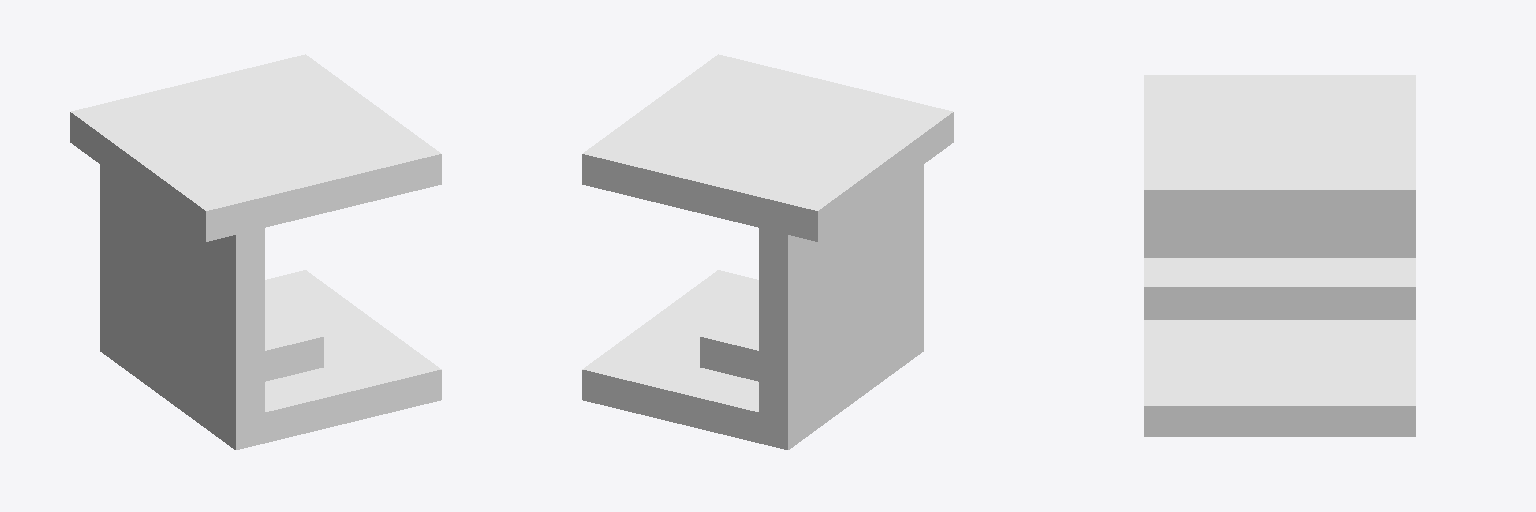
File: halte.obj
3 renders of one model, left to right at view 1: azimuth 30°, elevation 25°; view 2: azimuth 150°, elevation 25°; view 3: azimuth 270°, elevation 25°, orthographic.
Parts seen in each view (by area): view 1: object 1; view 2: object 1; view 3: object 1.
Part boxes in pixels (x1,y1,x2,y2): object 1: (70, 54, 441, 449); object 1: (582, 54, 953, 449); object 1: (1144, 75, 1415, 436).
Bounding box in the file's own units: 0.8 × 0.8 × 0.8.